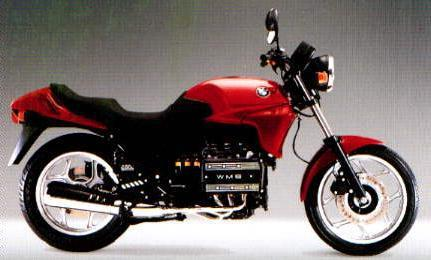motorcycle: (1, 4, 430, 260)
